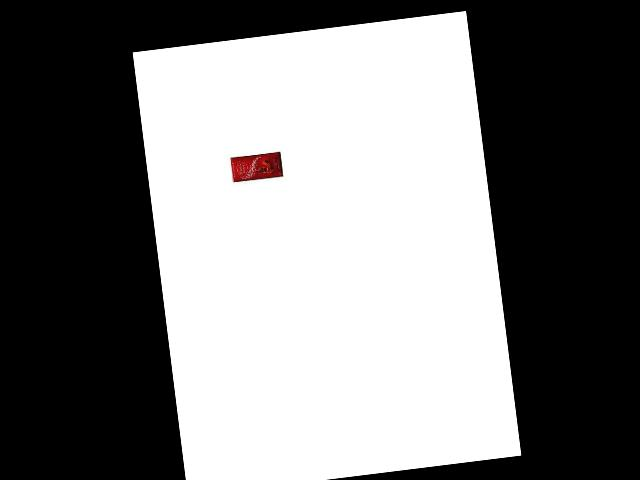chocolate: (229, 150, 287, 184)
